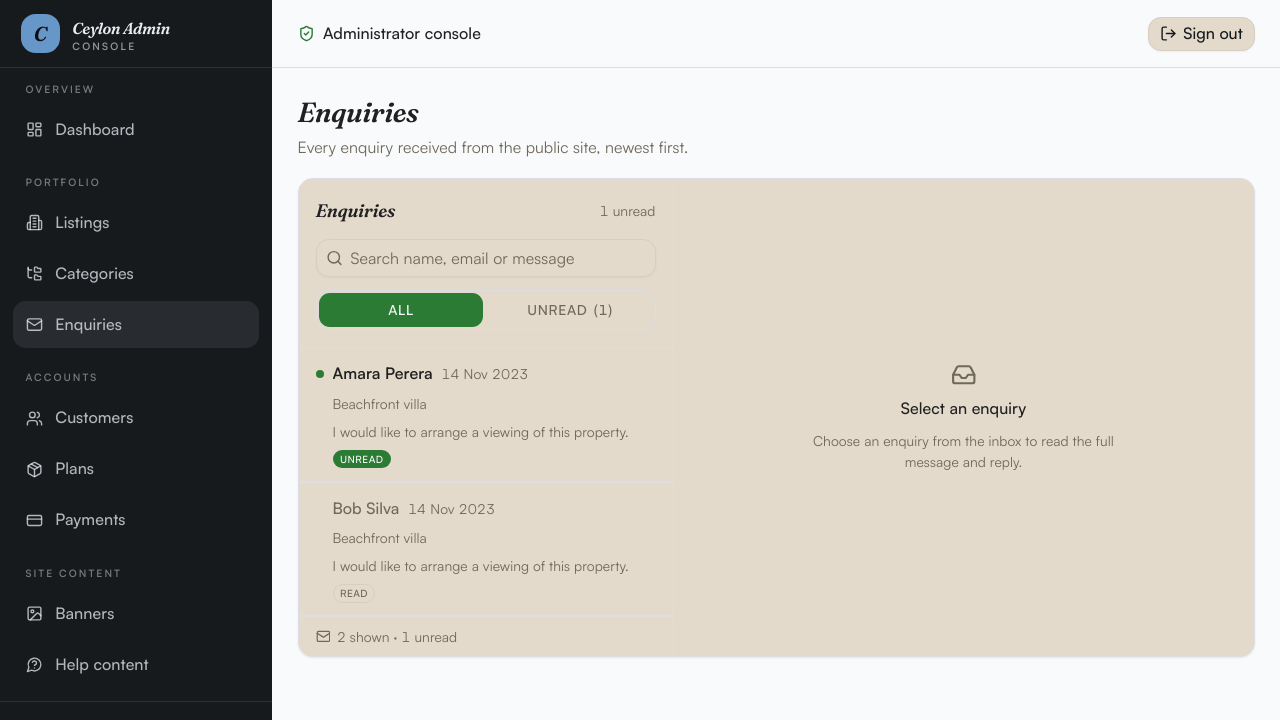
it: admin enquiries inbox › filters the inbox to unread enquiries only
The image size is (1280, 720).
Expected: the list with test id "enquiries.list" is shown, [298,348,672,616]
Click the button with test id "enquiries.filter.unread" at (570, 310), box [488,293,652,327]
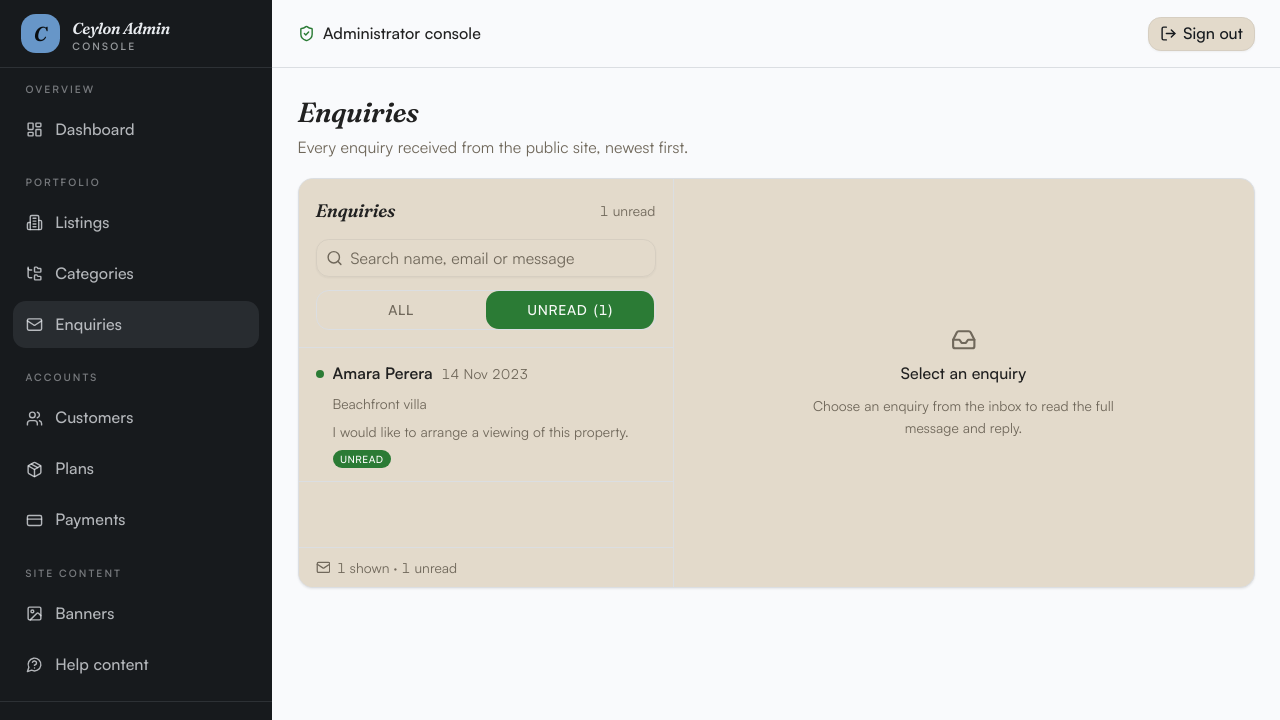
Expected: the text "Amara Perera" is shown, [332,361,433,387]
Now the button "Bob Silva" is gone
